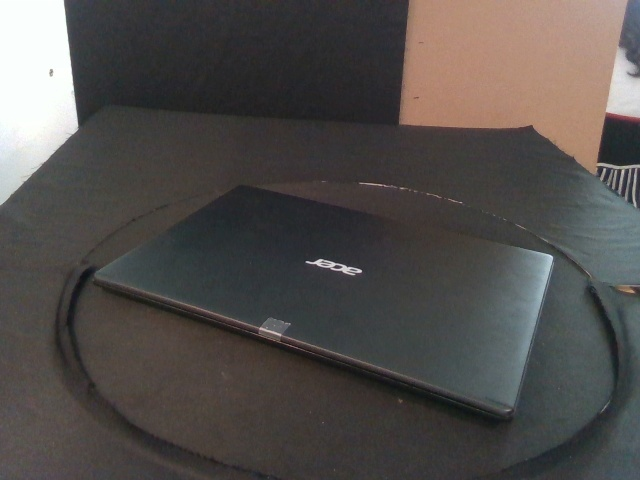laptop: (92, 184, 555, 426)
